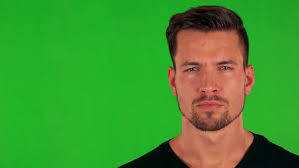white_male: (173, 26, 254, 131)
